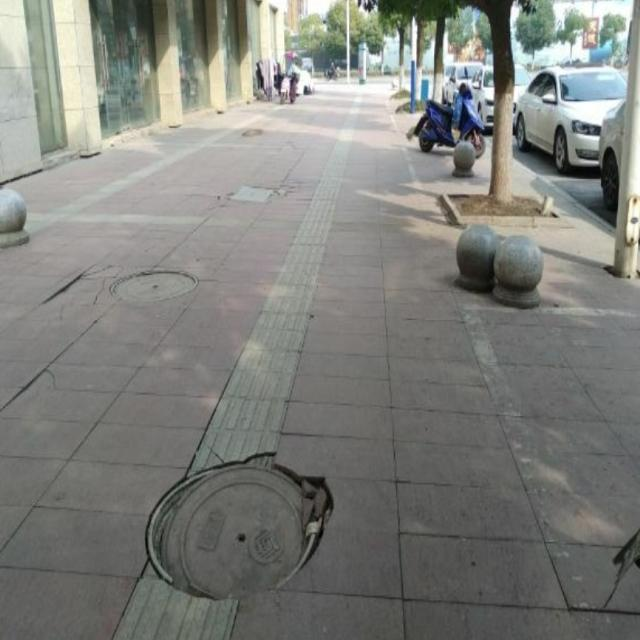Good: (100, 249, 216, 329), (237, 123, 268, 140)
Lose: (134, 438, 347, 609), (224, 179, 294, 217)
